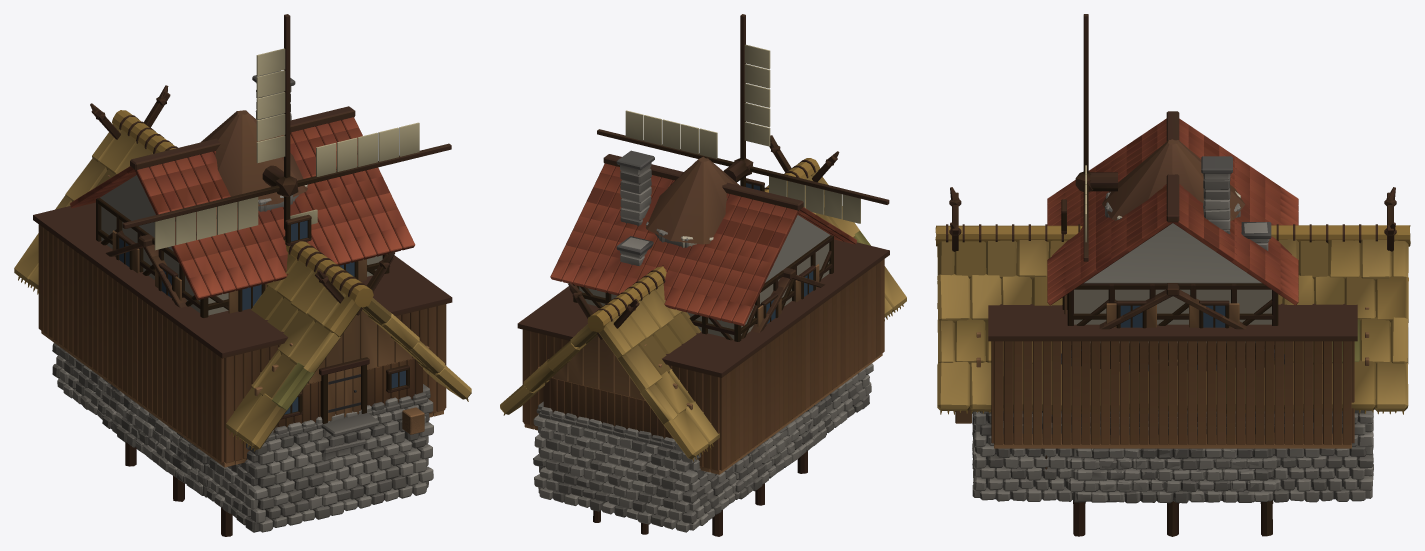
The model's file is village.glb.
3 renders of one model, left to right at view 1: azimuth 30°, elevation 25°; view 2: azimuth 150°, elevation 25°; view 3: azimuth 270°, elevation 25°, orthographic. The views are drawn at different scales.
Parts seen in each view (by area): view 1: M_longere, I_halle, M_colombage, A_moulin, M_moulin, M_forge, W_colombage, M_pecheur; view 2: M_longere, M_colombage, I_halle, A_moulin, M_moulin, M_forge, M_pecheur; view 3: I_halle, M_longere, M_colombage, M_forge, M_moulin, A_moulin, M_pecheur, W_colombage.
Boxes of the visible parts, x1,y1,x2,y2 form: M_longere: [14, 85, 471, 532]; I_halle: [33, 202, 452, 467]; M_colombage: [70, 70, 415, 495]; A_moulin: [122, 14, 451, 250]; M_moulin: [201, 110, 307, 211]; M_forge: [105, 234, 199, 490]; W_colombage: [119, 220, 354, 310]; M_pecheur: [125, 442, 232, 536]; M_longere: [500, 135, 906, 532]; M_colombage: [550, 150, 856, 499]; I_halle: [517, 239, 889, 474]; A_moulin: [597, 14, 889, 223]; M_moulin: [646, 157, 748, 247]; M_forge: [742, 267, 825, 493]; M_pecheur: [712, 451, 807, 536]; I_halle: [988, 303, 1357, 448]; M_longere: [935, 187, 1410, 502]; M_colombage: [1047, 111, 1298, 502]; M_forge: [1071, 283, 1274, 503]; M_moulin: [1090, 139, 1245, 220]; A_moulin: [1075, 14, 1093, 261]; M_pecheur: [1045, 455, 1273, 536]; W_colombage: [1120, 305, 1225, 371].
Size of the model in its own units: 13.38 by 19.61 by 17.25.
